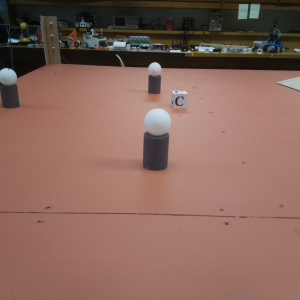blockC: (172, 91, 187, 110)
corner: (40, 15, 59, 63)
obstacle: (140, 108, 171, 169), (1, 68, 18, 112), (146, 63, 163, 95)
